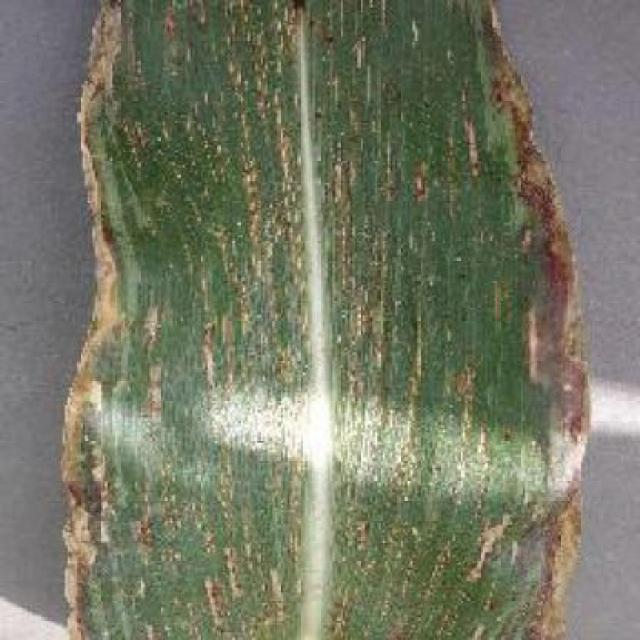Corn_Grey_Leaf_Spot: (75, 1, 584, 640)
